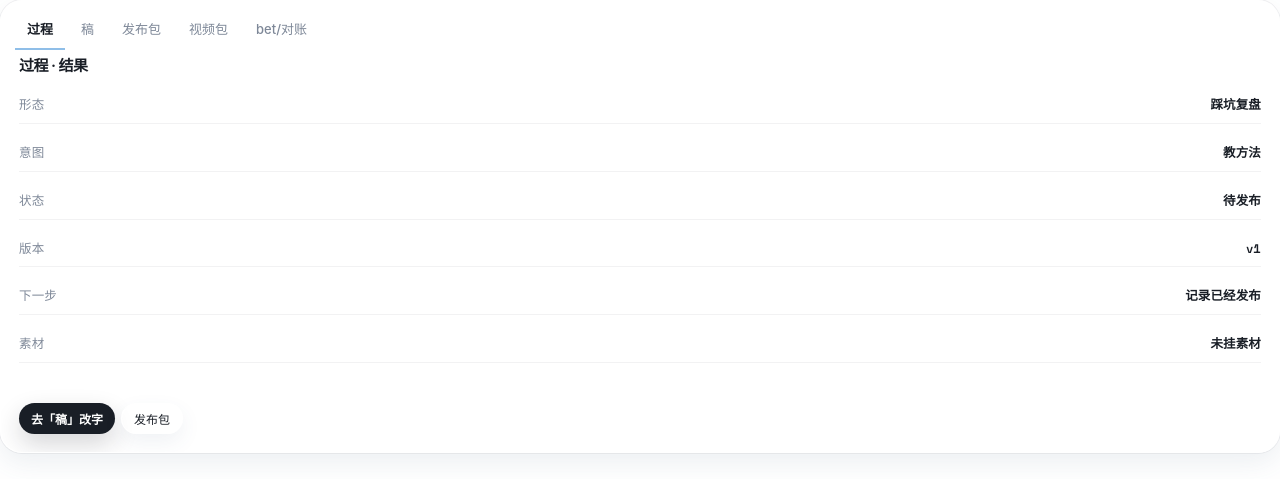
ArtifactPane › loads the latest publish check when the publish tab opens
This screenshot has width=1280, height=479.
Click the tab "发布包" at x=142, y=30, box [110,11,173,50]
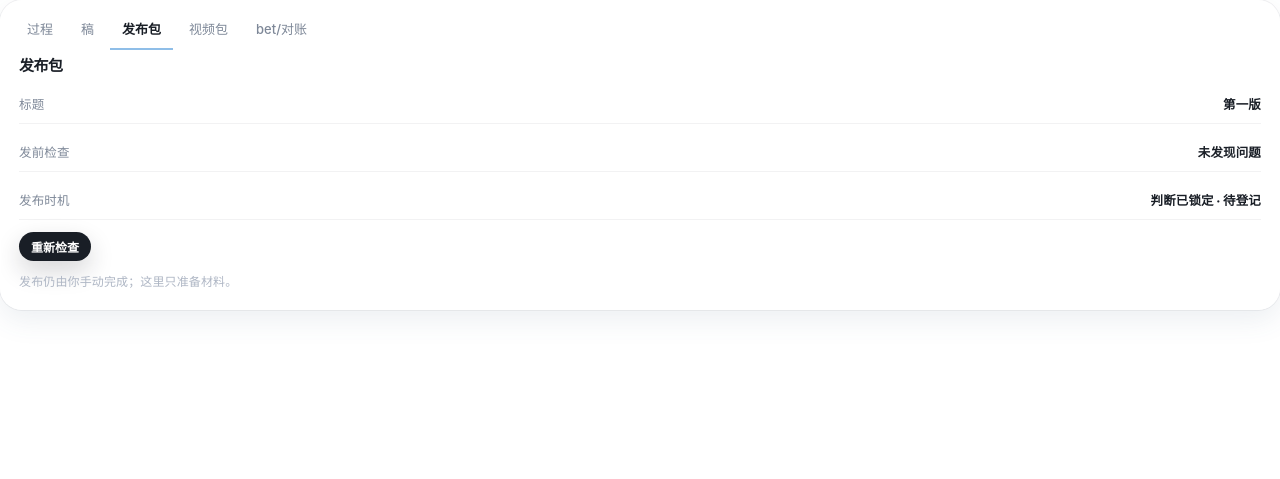
Check: the text "未发现问题" is shown, box [1198,144,1261,163]
Check: the text "判断已锁定 · 待登记" is shown, box [1150,192,1261,211]
